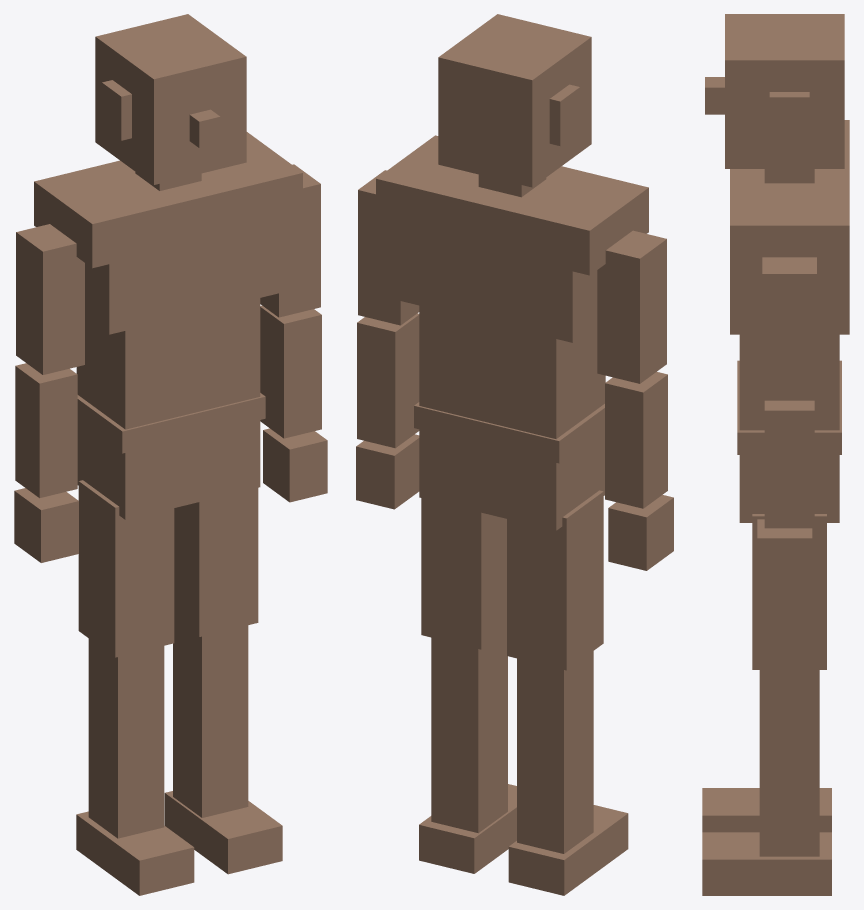
File: humanoid-01.glb
The picture shows the model from 3 angles, left to right: view 1: azimuth 30°, elevation 25°; view 2: azimuth 150°, elevation 25°; view 3: azimuth 270°, elevation 25°; orthographic projection. The views are drawn at different scales.
Parts seen in each view (by area): view 1: chest, head_geom, abdomen, shoulders, shin_l, thigh_l, shin_r, pelvis, thigh_r, upper_arm_l, forearm_l, forearm_r (+8 smaller); view 2: chest, head_geom, shoulders, abdomen, thigh_l, shin_l, shin_r, pelvis, thigh_r, upper_arm_l, forearm_l, forearm_r (+8 smaller); view 3: head_geom, shin_r, shoulders, upper_arm_r, thigh_r, foot_r, forearm_r, abdomen, chest, hand_geom_r, pelvis, foot_l (+4 smaller).
Part boxes in pixels (x1=…): chest: x1=85, y1=186, x2=286, y2=334; head_geom: x1=95, y1=14, x2=246, y2=184; abdomen: x1=76, y1=298, x2=260, y2=429; shoulders: x1=34, y1=132, x2=302, y2=268; shin_l: x1=88, y1=638, x2=164, y2=838; thigh_l: x1=78, y1=480, x2=174, y2=657; shin_r: x1=173, y1=619, x2=248, y2=817; pelvis: x1=77, y1=420, x2=260, y2=519; thigh_r: x1=174, y1=488, x2=258, y2=636; upper_arm_l: x1=16, y1=224, x2=84, y2=374; forearm_l: x1=15, y1=363, x2=77, y2=498; forearm_r: x1=260, y1=305, x2=321, y2=438; chest: x1=393, y1=192, x2=597, y2=342; head_geom: x1=438, y1=14, x2=591, y2=187; shoulders: x1=376, y1=135, x2=648, y2=275; abdomen: x1=419, y1=305, x2=605, y2=438; thigh_l: x1=507, y1=490, x2=603, y2=670; shin_l: x1=517, y1=651, x2=593, y2=853; shin_r: x1=431, y1=631, x2=507, y2=833; pelvis: x1=419, y1=429, x2=604, y2=530; thigh_r: x1=421, y1=498, x2=506, y2=649; upper_arm_l: x1=597, y1=230, x2=666, y2=383; forearm_l: x1=605, y1=372, x2=667, y2=508; forearm_r: x1=357, y1=313, x2=419, y2=448; head_geom: x1=725, y1=14, x2=844, y2=168; shin_r: x1=759, y1=670, x2=819, y2=856; shoulders: x1=730, y1=120, x2=849, y2=270; upper_arm_r: x1=762, y1=257, x2=816, y2=400; thigh_r: x1=752, y1=514, x2=826, y2=669; foot_r: x1=702, y1=832, x2=831, y2=895; forearm_r: x1=764, y1=400, x2=814, y2=528; abdomen: x1=739, y1=334, x2=839, y2=430; chest: x1=730, y1=270, x2=849, y2=334; hand_geom_r: x1=757, y1=519, x2=812, y2=592; pelvis: x1=739, y1=455, x2=839, y2=522; foot_l: x1=702, y1=788, x2=831, y2=832.
Bounding box in the file's own units: 0.68 × 1.82 × 0.295.
